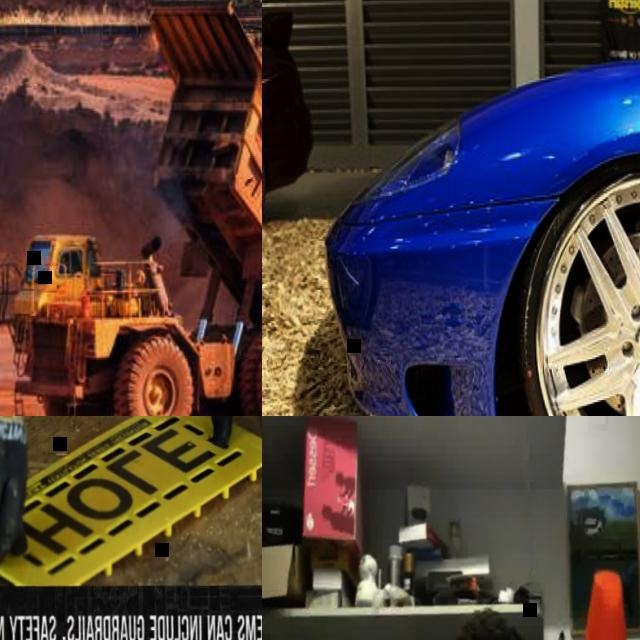NO-Hardhat: (443, 602, 529, 640)
Person: (0, 416, 262, 568), (368, 561, 640, 640)
machinery: (0, 0, 262, 416)
vehicle: (319, 0, 640, 416), (262, 1, 318, 236)
